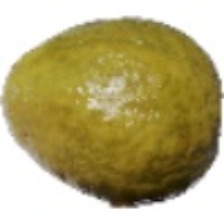guava: (22, 25, 205, 165)
